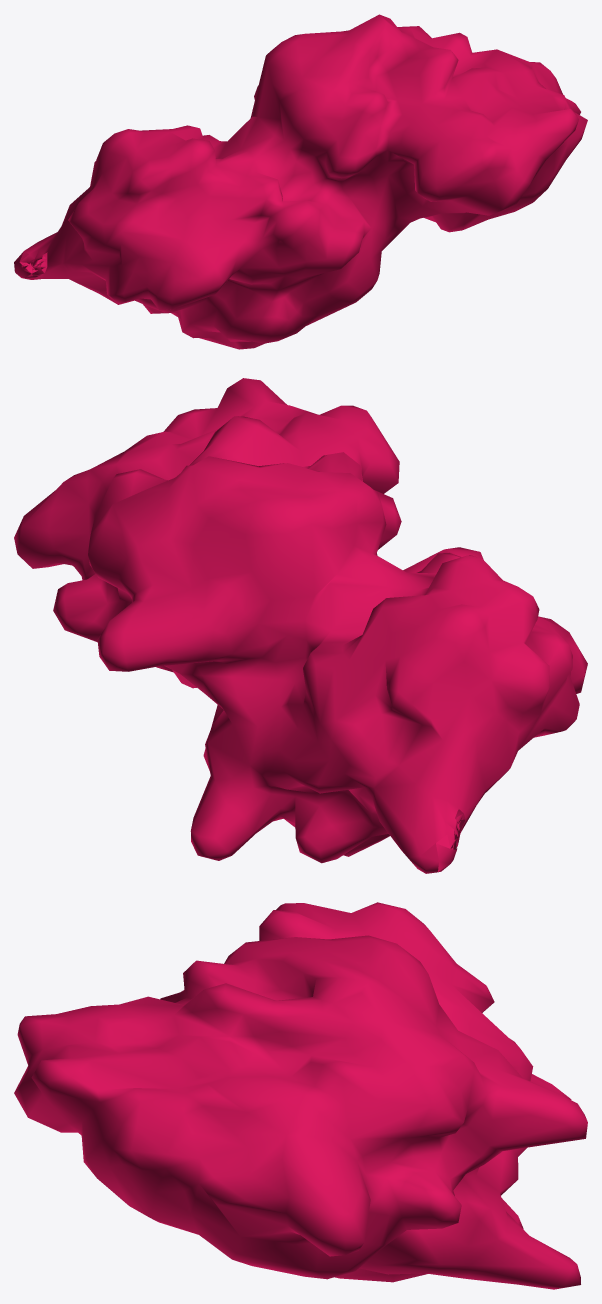
The model's file is JAK_2.glb.
3 renders of one model, top to bottom at view 1: azimuth 30°, elevation 25°; view 2: azimuth 150°, elevation 25°; view 3: azimuth 270°, elevation 25°, orthographic. The views are drawn at different scales.
Parts seen in each view (by area): view 1: JAK 2; view 2: JAK 2; view 3: JAK 2.
Part boxes in pixels (bbox=[...]): JAK 2: bbox=[14, 14, 587, 349]; JAK 2: bbox=[14, 378, 587, 873]; JAK 2: bbox=[14, 902, 587, 1289].
Bounding box in the file's own units: 7.04 × 4.14 × 5.46.
Materials: 1 (1 with a texture image).
